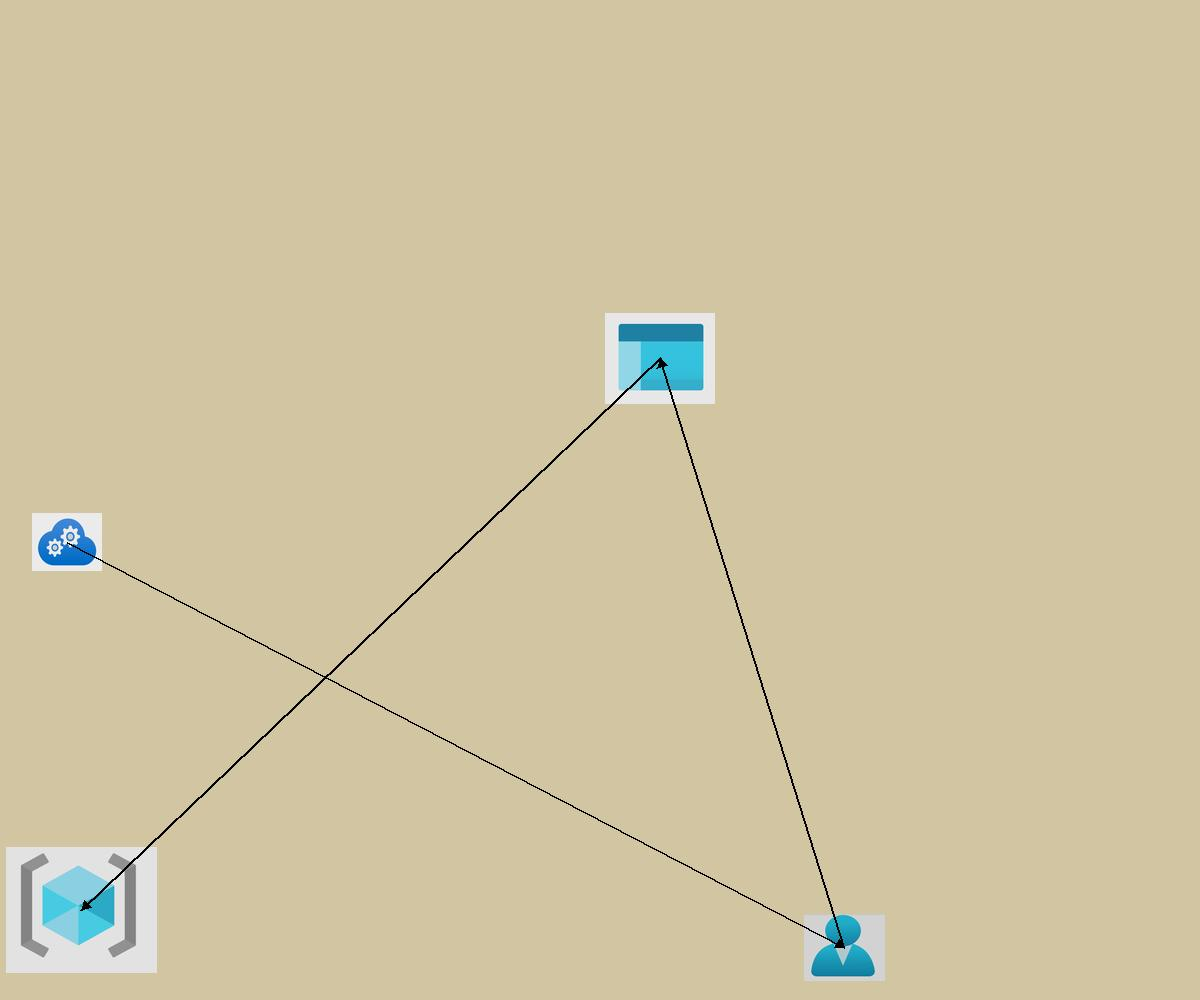Azure_cloud_services: (32, 513, 102, 571)
Azure_management-portal: (605, 313, 715, 404)
Azure_resource_group: (6, 847, 157, 973)
Azure_users: (804, 914, 885, 981)
